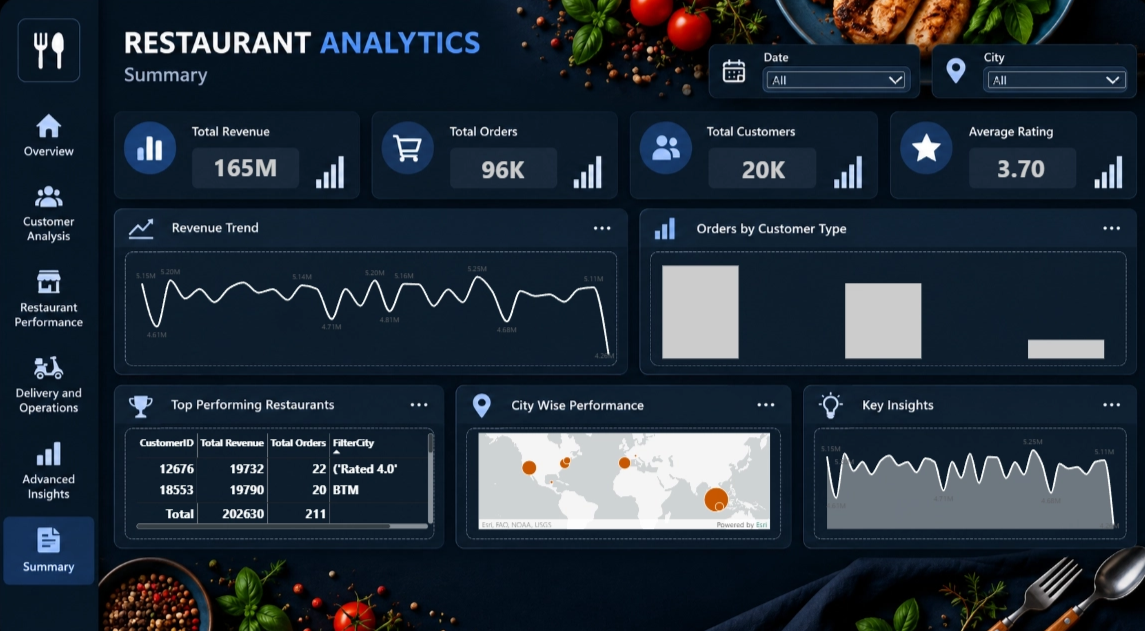

What the dashboard file says about the page in this screenshot:
{"tool":"powerbi","page":{"name":"SUMMARY","canvas":[1920,1080],"ordinal":5},"visuals":[{"type":"cardVisual","title":"Avg Rating","fields":{"Data":["Orders.Avg Rating"]},"box":[1604.2,252.1,198,62],"z":0},{"type":"cardVisual","title":"Total Customers","fields":{"Data":["Orders.Total Customers"]},"box":[1175,254.2,198,62],"z":1000},{"type":"cardVisual","title":"Late Orders","fields":{"Data":["Orders.Late Orders"]},"box":[739.6,252.1,200,64],"z":2000},{"type":"cardVisual","title":"Total Revenue","fields":{"Data":["Orders.Total Revenue"]},"box":[314.6,250,191.7,64.6],"z":3000},{"type":"clusteredColumnChart","title":"Orders by Customer Type","fields":{"Category":["Customers.CustomerType"],"Y":["Orders.Total Orders"]},"box":[1089.6,422.9,793.8,195.8],"z":4000},{"type":"lineChart","title":"Revenue Trend","fields":{"Category":["DateTable.Date.Variation.Date Hierarchy.Year","DateTable.Date.Variation.Date Hierarchy.Quarter","DateTable.Date.Variation.Date Hierarchy.Month"],"Y":["Orders.Total Revenue"]},"box":[212.5,422.9,829.2,195.8],"z":5000},{"type":"tableEx","title":"Top 10 Restaurants","fields":{"Values":["Customers.CustomerID","Orders.Total Revenue","Orders.Total Orders","Customers.FilterCity"]},"box":[212.5,712.5,527.1,189.6],"z":6000},{"type":"esriVisual","title":"City Wise Delivery Time","fields":{"Color":["Orders.Avg Rating"],"Location":["Customers.City"],"Size":["Orders.Revenue per Restaurant"]},"box":[783.3,712.5,516.7,189.6],"z":7000},{"type":"lineChart","title":"Delivery Trend","fields":{"Category":["DateTable.Date.Variation.Date Hierarchy.Year","DateTable.Date.Variation.Date Hierarchy.Month"],"Y":["Orders.Total Revenue"]},"box":[1354.2,712.5,529.2,189.6],"z":8000},{"type":"slicer","title":"Order status breakdown","fields":{"Values":["DateTable.Date.Variation.Date Hierarchy.Year","DateTable.Date.Variation.Date Hierarchy.Quarter","DateTable.Date.Variation.Date Hierarchy.Month","DateTable.Date.Variation.Date Hierarchy.Day"]},"box":[1275,118.8,239.6,35.4],"z":9000},{"type":"slicer","title":"Order status breakdown","fields":{"Values":["Customers.FilterCity"]},"box":[1643.8,118.8,239.6,45.8],"z":9001}]}

Visuals, with their boxes on the page's 1920x1080 design canvas (x1, y1, x2, y2). These are canvas units, not pixel positions in the 1145x631 screenshot, which may show the page scaled, cropped or inside an application window:
"Avg Rating" cardVisual: region(1604, 252, 1802, 314)
"Total Customers" cardVisual: region(1175, 254, 1373, 316)
"Late Orders" cardVisual: region(740, 252, 940, 316)
"Total Revenue" cardVisual: region(315, 250, 506, 315)
"Orders by Customer Type" clusteredColumnChart: region(1090, 423, 1883, 619)
"Revenue Trend" lineChart: region(212, 423, 1042, 619)
"Top 10 Restaurants" tableEx: region(212, 712, 740, 902)
"City Wise Delivery Time" esriVisual: region(783, 712, 1300, 902)
"Delivery Trend" lineChart: region(1354, 712, 1883, 902)
"Order status breakdown" slicer: region(1275, 119, 1515, 154)
"Order status breakdown" slicer: region(1644, 119, 1883, 165)
